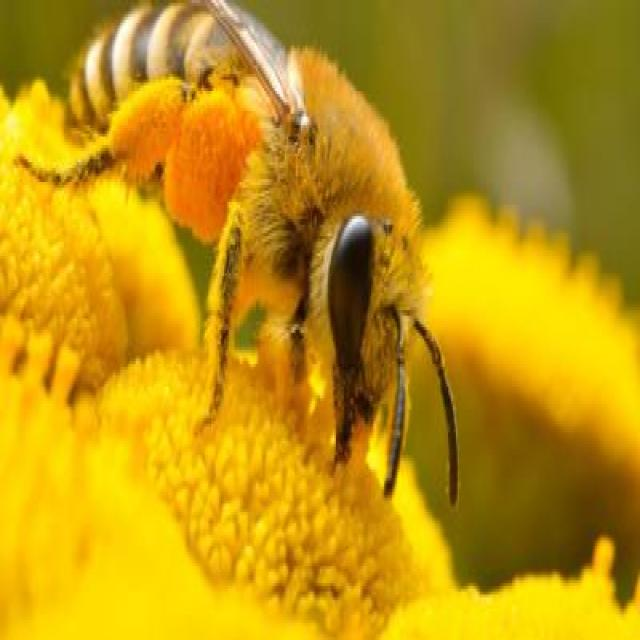antennae: (414, 317, 461, 509), (374, 294, 416, 508)
body: (65, 3, 427, 414)
insect: (13, 0, 464, 516)
legs: (16, 78, 190, 193), (194, 204, 260, 444), (286, 281, 312, 430)
mouthpart: (328, 367, 379, 482)
wings: (203, 0, 313, 139)
